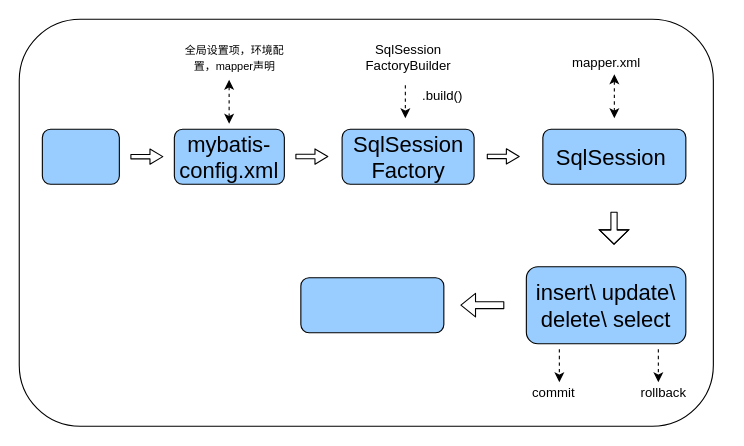
This 744x446 diagram has some shape labels left out. The shapes that lost their labels are listed below. From the top down, each one's box as (x1, y1, x2, y2) in pixels, then its label:
(41, 128, 119, 184): 应用
(300, 277, 444, 333): SqlSession Close
